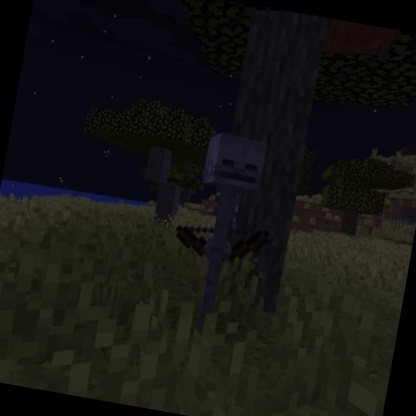skeleton: (156, 122, 291, 335)
